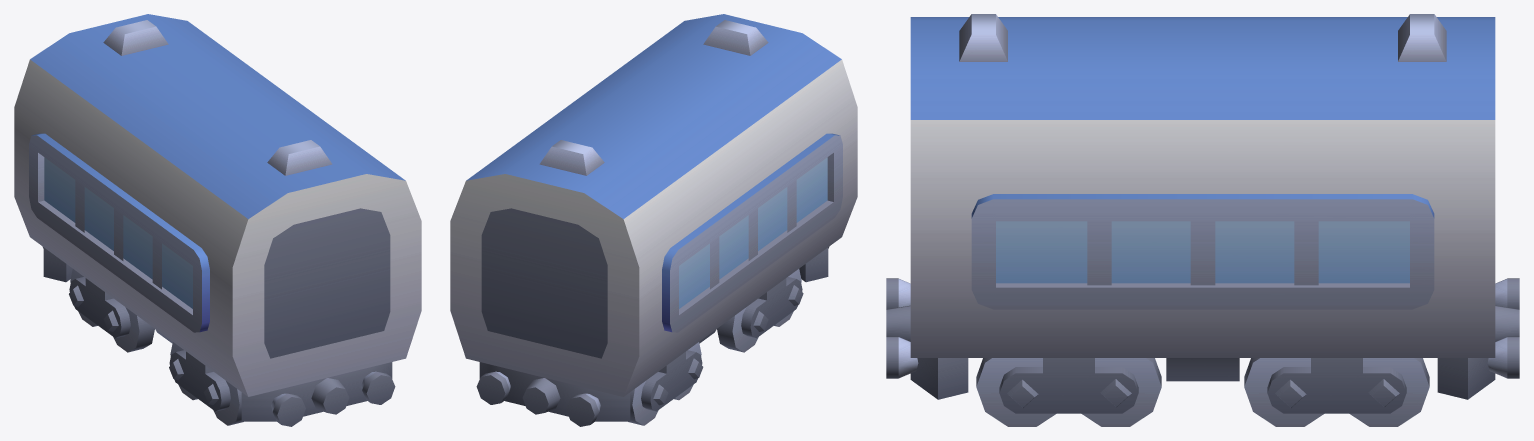
Rendered from train-bulletC.glb.
3 renders of one model, left to right at view 1: azimuth 30°, elevation 25°; view 2: azimuth 150°, elevation 25°; view 3: azimuth 270°, elevation 25°, orthographic. The views are drawn at different scales.
Parts seen in each view (by area): view 1: train-electric-bullet-c; view 2: train-electric-bullet-c; view 3: train-electric-bullet-c.
Part boxes in pixels (x1,y1,x2,y2): train-electric-bullet-c: (14, 14, 421, 426); train-electric-bullet-c: (450, 14, 857, 426); train-electric-bullet-c: (886, 14, 1519, 426).
Bounding box in the file's own units: 1.3 × 1.64 × 2.6.
1 material, 1 textured.
